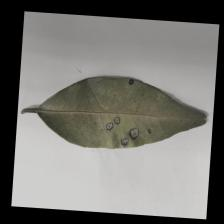canker: (70, 92, 160, 148)
